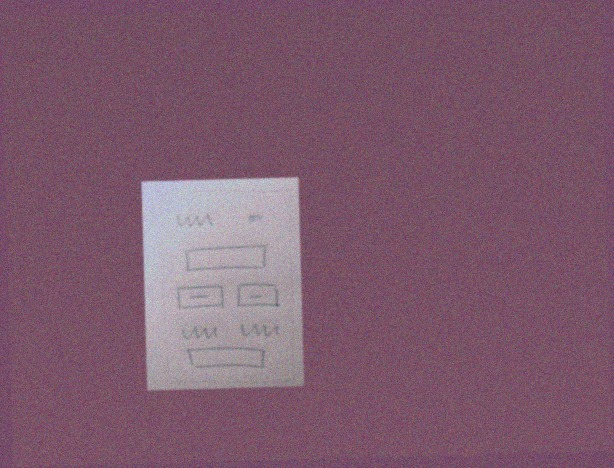button: (232, 279, 283, 311), (174, 283, 229, 312)
switch: (245, 208, 265, 228)
text: (236, 317, 281, 343), (177, 321, 221, 344), (172, 210, 216, 231)
text_input: (181, 241, 270, 275), (181, 345, 270, 374)
